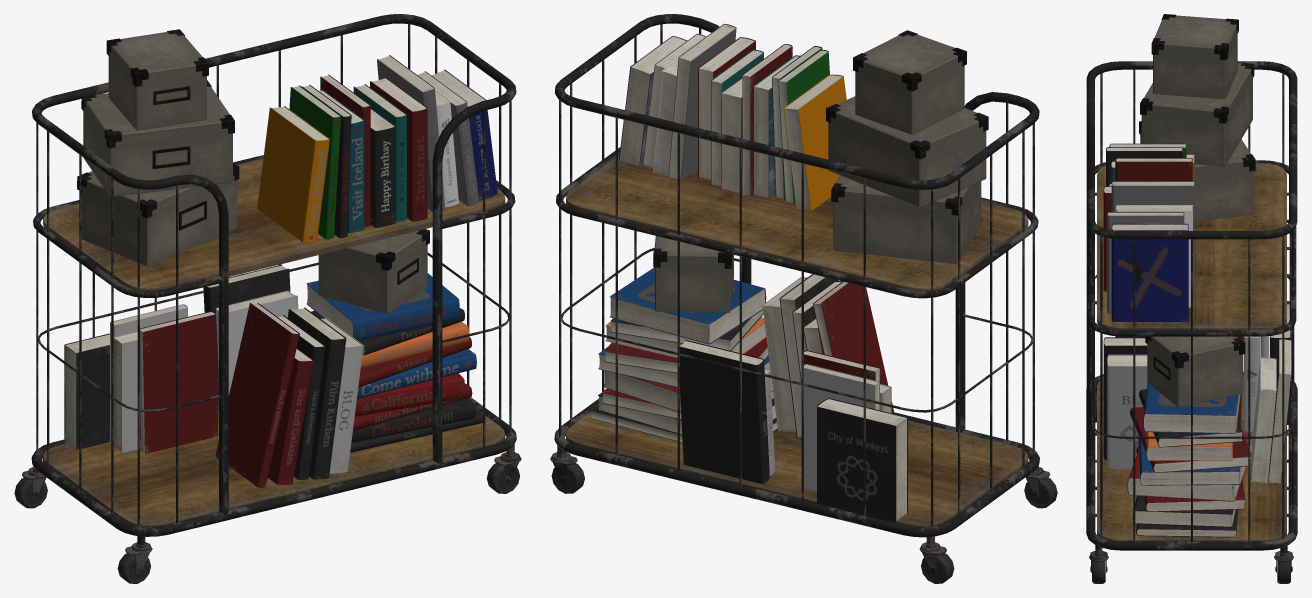
Rendered from iron_art_storage_bookshelf.glb.
3 renders of one model, left to right at view 1: azimuth 30°, elevation 25°; view 2: azimuth 150°, elevation 25°; view 3: azimuth 270°, elevation 25°, orthographic. The views are drawn at different scales.
Parts seen in each view (by area): view 1: object 7, AM205_010_02_6, AM205_010_03_5, object 4, AM205_010_07_1, AM205_010_05_3, object 2; view 2: object 7, AM205_010_02_6, AM205_010_03_5, AM205_010_07_1, AM205_010_05_3, object 2, object 4; view 3: object 7, AM205_010_02_6, AM205_010_05_3, object 2, AM205_010_03_5, object 4, AM205_010_07_1.
Part boxes in pixels (x1=…): object 7: x1=14, y1=14, x2=521, y2=583; AM205_010_02_6: x1=77, y1=29, x2=429, y2=314; AM205_010_03_5: x1=64, y1=264, x2=298, y2=453; object 4: x1=215, y1=303, x2=363, y2=487; AM205_010_07_1: x1=257, y1=74, x2=395, y2=242; AM205_010_05_3: x1=306, y1=273, x2=482, y2=452; object 2: x1=353, y1=55, x2=497, y2=221; object 7: x1=550, y1=14, x2=1057, y2=583; AM205_010_02_6: x1=653, y1=30, x2=988, y2=312; AM205_010_03_5: x1=680, y1=340, x2=907, y2=522; AM205_010_07_1: x1=721, y1=44, x2=846, y2=210; AM205_010_05_3: x1=590, y1=267, x2=777, y2=442; object 2: x1=619, y1=23, x2=763, y2=186; object 4: x1=762, y1=274, x2=894, y2=437; object 7: x1=1086, y1=61, x2=1297, y2=583; AM205_010_02_6: x1=1139, y1=14, x2=1255, y2=407; AM205_010_05_3: x1=1127, y1=383, x2=1252, y2=537; object 2: x1=1103, y1=181, x2=1194, y2=321; AM205_010_03_5: x1=1237, y1=304, x2=1291, y2=483; object 4: x1=1103, y1=336, x2=1147, y2=469; AM205_010_07_1: x1=1106, y1=143, x2=1194, y2=186.
Bounding box in the file's own units: 1.01 × 1.13 × 0.5127.
7 materials, 7 textured.
